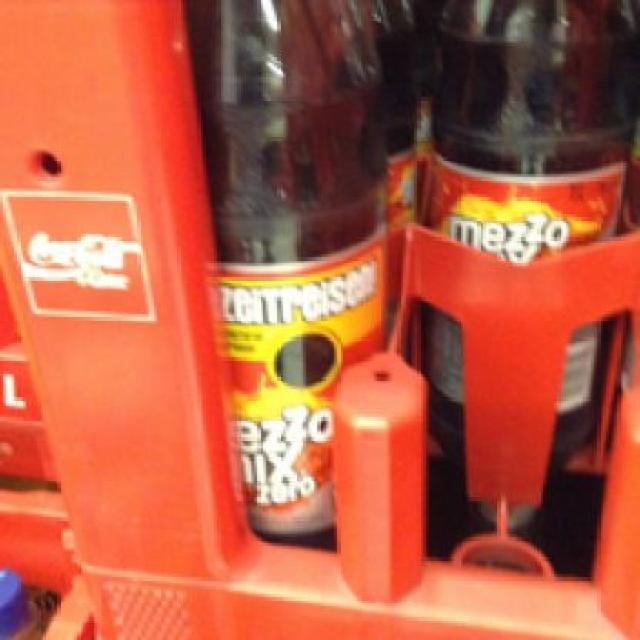Soda: (177, 0, 386, 543), (417, 0, 632, 466)
